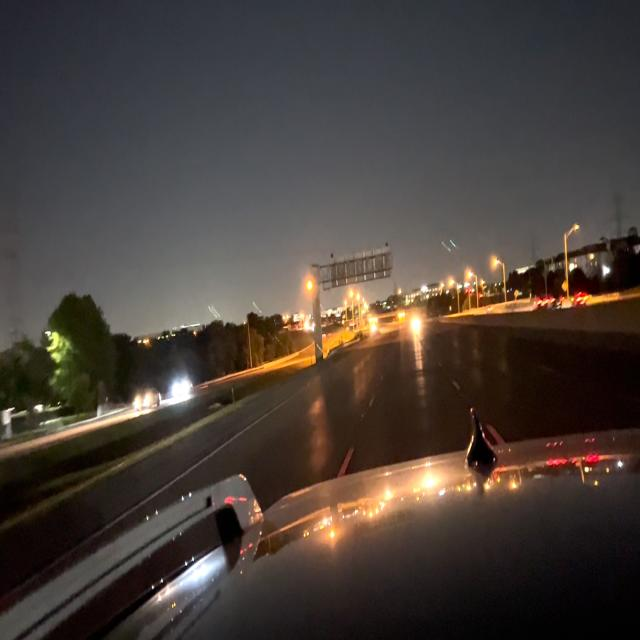back-of-sign: (329, 246, 393, 290)
